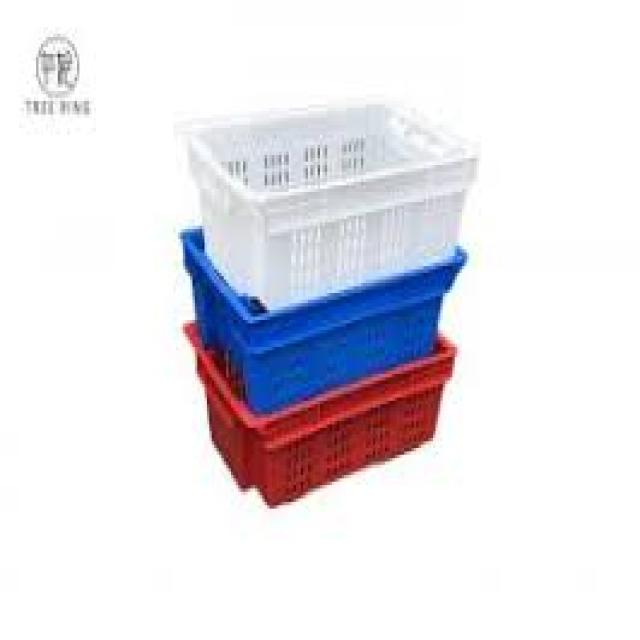basket: (175, 99, 496, 509), (173, 228, 470, 428), (173, 323, 458, 516)
